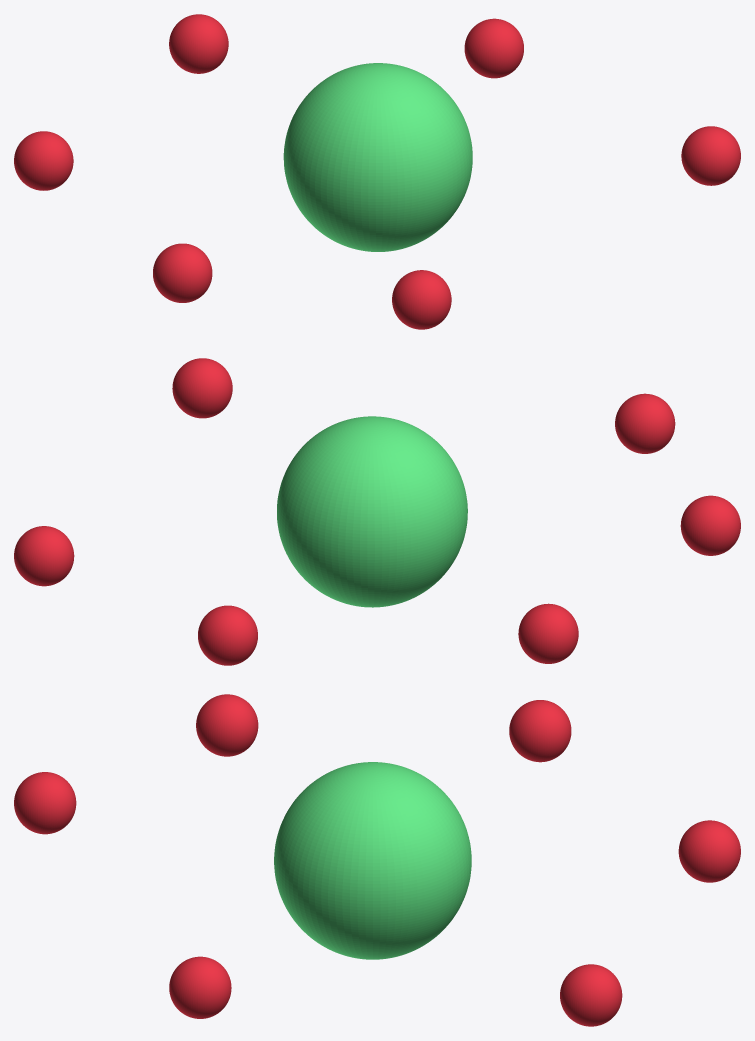
Rendered from Oxygen.fbx.
3 views of the same model, one above another, from view 1: azimuth 30°, elevation 25°; view 2: azimuth 150°, elevation 25°; view 3: azimuth 270°, elevation 25° (orthographic). The views are drawn at different scales.
Parts seen in each view (by area): view 1: Sphere, Sphere.001, Sphere.006, Sphere.003, Sphere.004, Sphere.005, Sphere.002; view 2: Sphere, Sphere.001, Sphere.006, Sphere.005, Sphere.002, Sphere.004, Sphere.003; view 3: Sphere, Sphere.001, Sphere.002, Sphere.004, Sphere.005, Sphere.003, Sphere.006.
Boxes of the visible parts, bbox=[...] form: Sphere: bbox=[283, 63, 472, 251]; Sphere.001: bbox=[681, 126, 740, 185]; Sphere.006: bbox=[14, 131, 73, 190]; Sphere.003: bbox=[392, 270, 451, 329]; Sphere.004: bbox=[464, 18, 523, 78]; Sphere.005: bbox=[169, 14, 228, 73]; Sphere.002: bbox=[153, 243, 212, 302]; Sphere: bbox=[277, 416, 467, 607]; Sphere.001: bbox=[172, 358, 232, 418]; Sphere.006: bbox=[518, 603, 578, 663]; Sphere.005: bbox=[198, 605, 257, 665]; Sphere.002: bbox=[680, 495, 740, 555]; Sphere.004: bbox=[14, 526, 74, 586]; Sphere.003: bbox=[615, 393, 675, 453]; Sphere: bbox=[274, 762, 471, 959]; Sphere.001: bbox=[169, 956, 231, 1018]; Sphere.002: bbox=[196, 694, 258, 756]; Sphere.004: bbox=[560, 964, 622, 1026]; Sphere.005: bbox=[678, 820, 740, 882]; Sphere.003: bbox=[14, 772, 76, 834]; Sphere.006: bbox=[509, 700, 571, 762].
Bounding box in the file's own units: 21.99 × 6.35 × 23.34.
